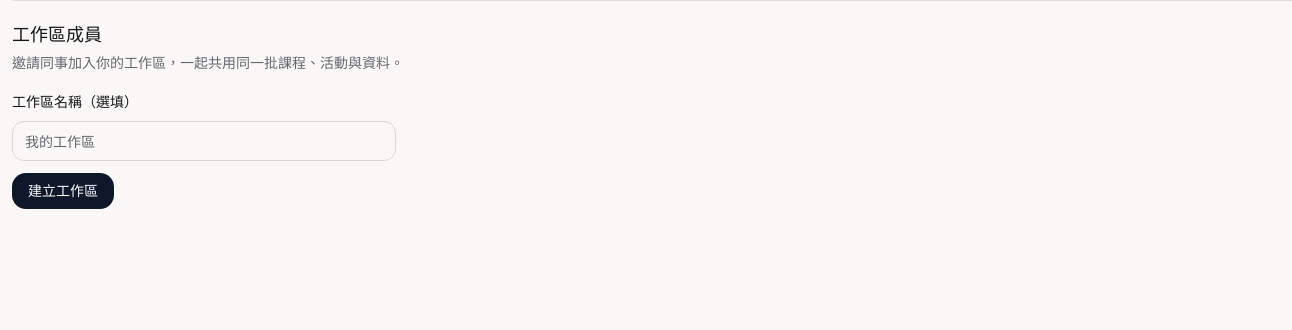
Test: TeamWorkspaceSection › creates a workspace and reloads the member list
Click the button "建立工作區". click: (63, 191)
box: x1=12 y1=173 x2=114 y2=209
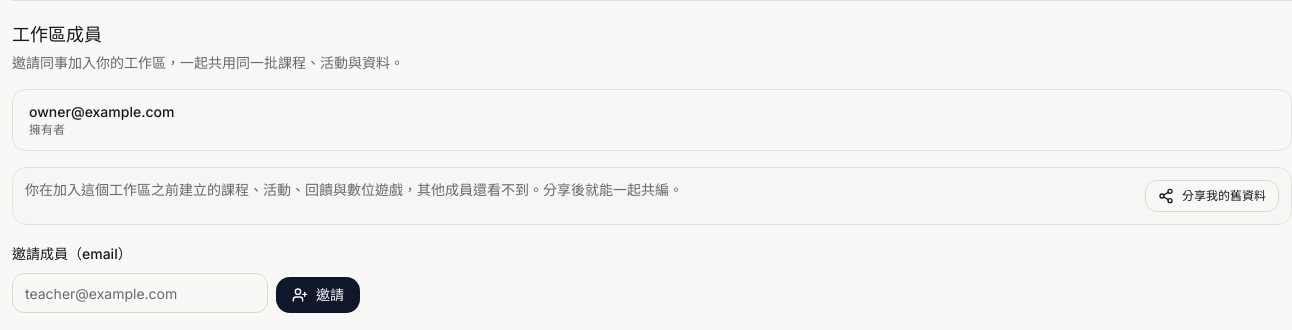
Now the text "owner@example.com" is shown, box x1=29 y1=102 x2=174 y2=122
